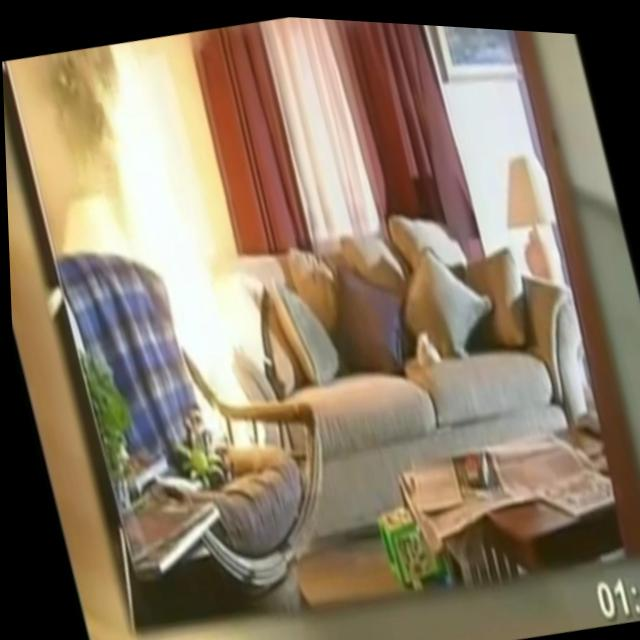fire: (80, 33, 277, 468)
